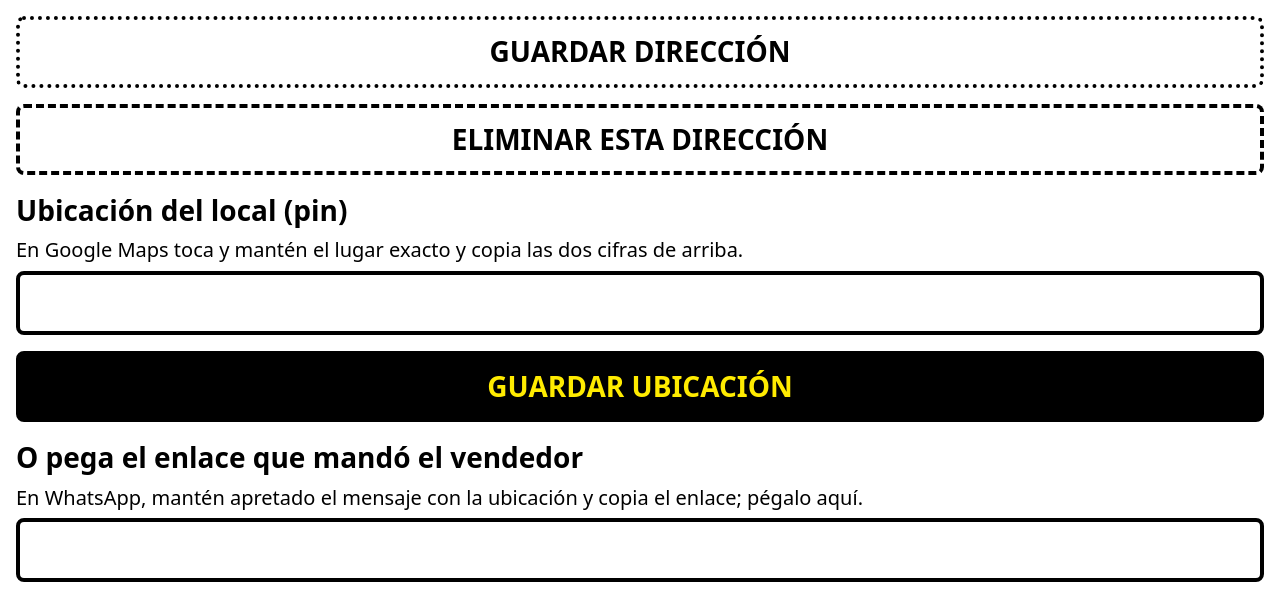
Test case: pin del local › guarda la ubicación pegada desde Google Maps y rechaza lo que no se entiende
This screenshot has width=1280, height=598.
(page scrolled)
Type "cerca de la plaza" into the field labelled "Ubicación del local (pin)".
click(640, 303); type("cerca de la plaza")  # box [16,271,1264,335]
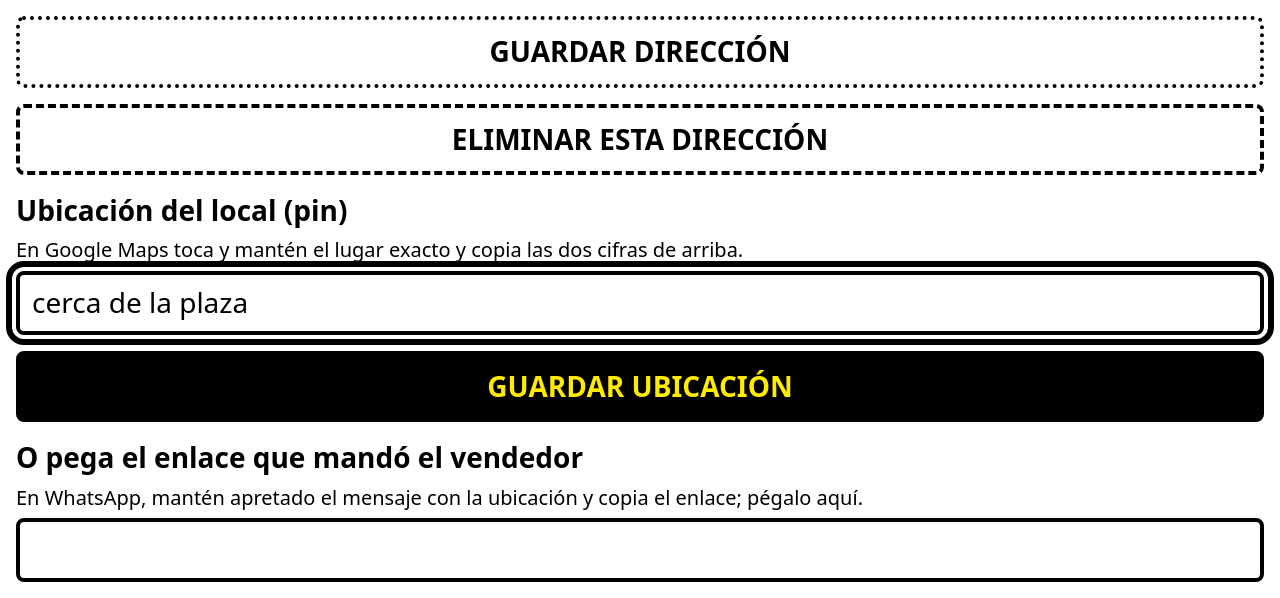
Click the button "GUARDAR UBICACIÓN".
click(640, 386)  # box [16,351,1264,422]
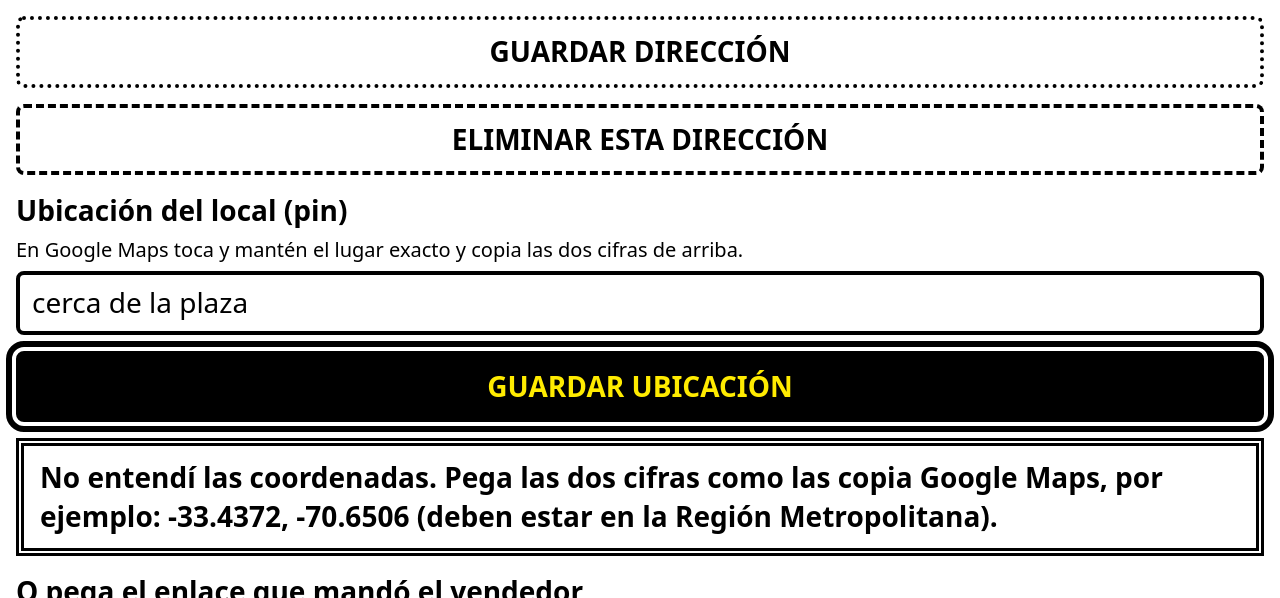
Expected: the message shows "No entendí las coordenadas", [40,458,1163,535]
Replace the text in the field labelled "Ubicación del local (pin)" with "-33.5123, -70.7001" at (640, 303), box [16,271,1264,335]
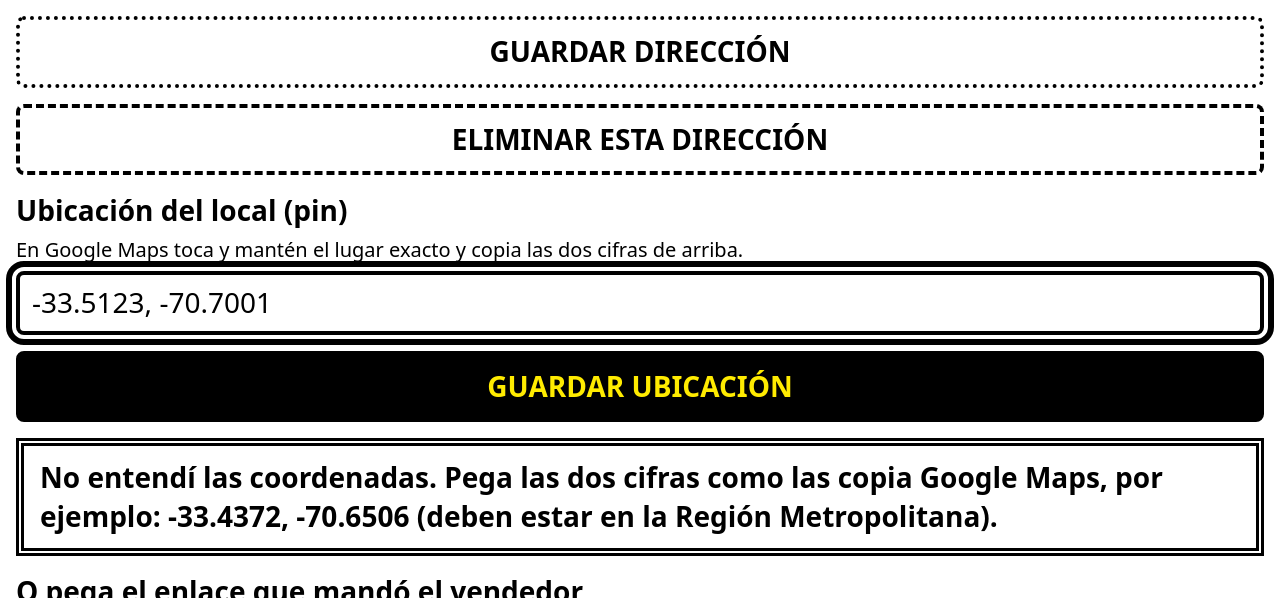
Click the button "GUARDAR UBICACIÓN".
click(640, 386)  # box [16,351,1264,422]
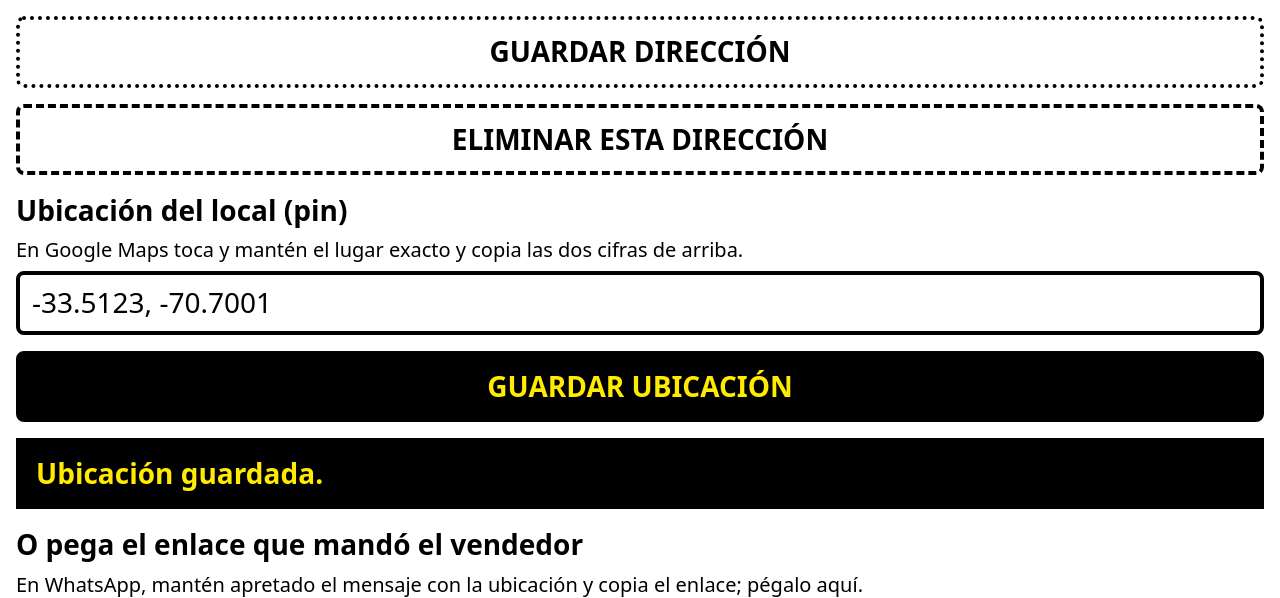
Expected: the text "Ubicación guardada." is shown, [16,438,1264,509]
